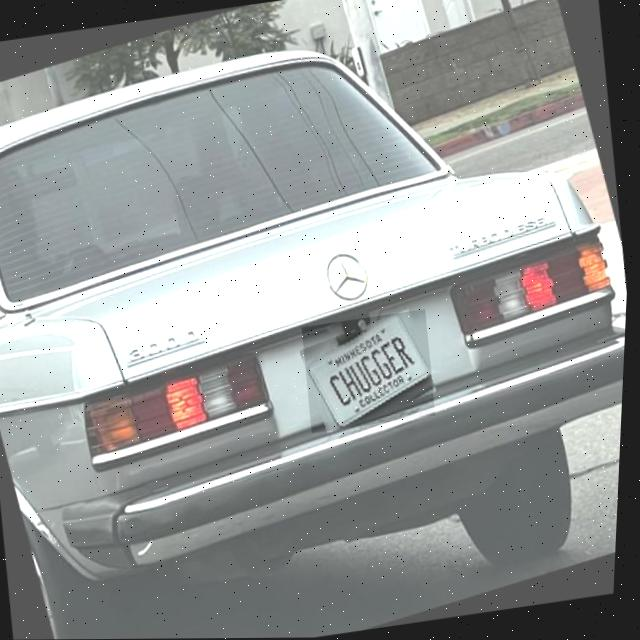LicensePlate: (309, 314, 435, 430)
